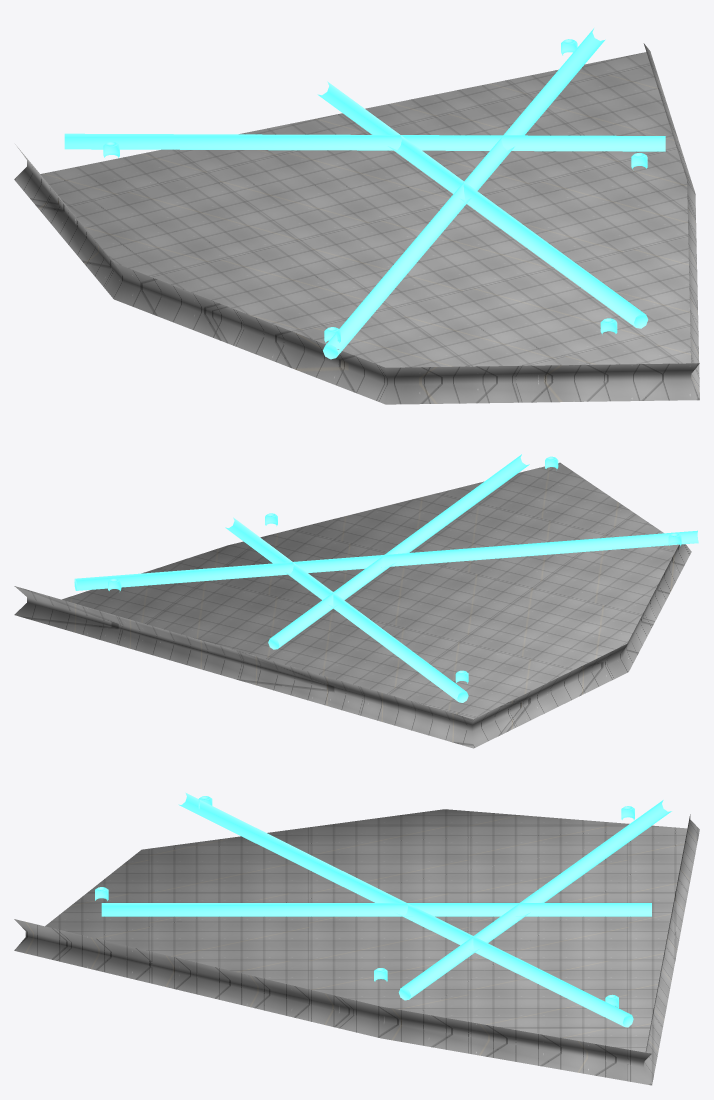
Rendered from fin_crystalline.glb.
3 views of the same model, one above another, from view 1: azimuth 30°, elevation 25°; view 2: azimuth 150°, elevation 25°; view 3: azimuth 270°, elevation 25° (orthographic). The views are drawn at different scales.
Parts seen in each view (by area): view 1: Crystal_Plane, fin_crystalline_Material_Accent_Merged (×2); view 2: Crystal_Plane, fin_crystalline_Material_Accent_Merged (×2); view 3: Crystal_Plane, fin_crystalline_Material_Accent_Merged (×2).
Boxes of the visible parts, x1,y1,x2,y2 form: Crystal_Plane: [14, 43, 699, 404]; fin_crystalline_Material_Accent_Merged (×2): [64, 28, 665, 359]; Crystal_Plane: [14, 462, 691, 748]; fin_crystalline_Material_Accent_Merged (×2): [74, 454, 698, 702]; Crystal_Plane: [14, 809, 699, 1085]; fin_crystalline_Material_Accent_Merged (×2): [95, 792, 671, 1027].
Size of the model in its own units: 4.1 by 0.31 by 4.3.
Materials: 2 (1 with a texture image).
